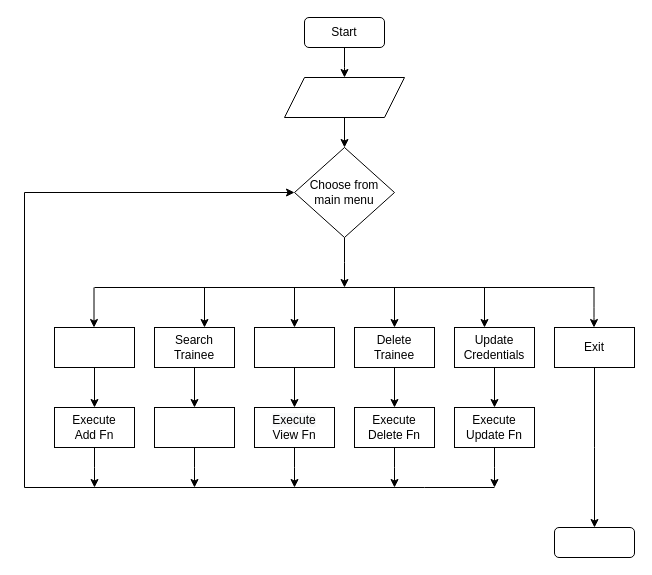
The diagram is 652 pixels wide and 575 high, and some of its shapes have lost their labels. The box of each missing label's shape, as (x1, y1, x2, y2) in pixels:
Add Trainee: (54, 326, 134, 368)
Execute Search Fn: (154, 406, 234, 448)
Read Parameters: (284, 76, 404, 118)
Stop: (554, 526, 634, 558)
View Trainee: (254, 326, 334, 368)
